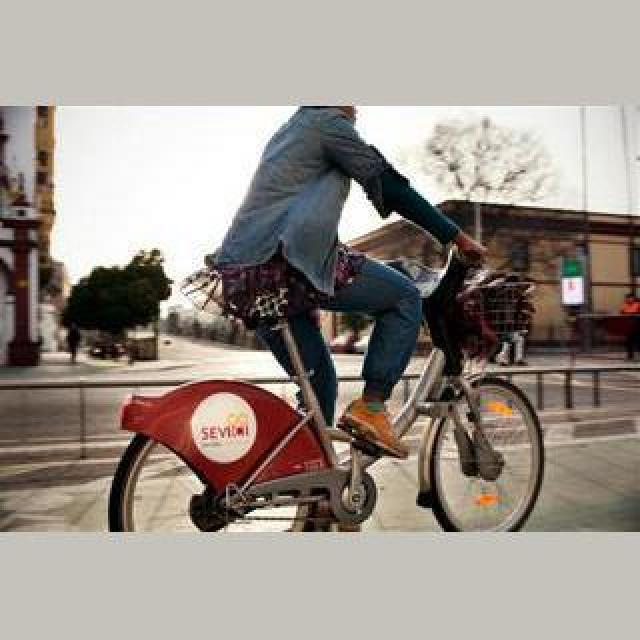MC-Bike: (182, 98, 498, 506)
Person: (118, 268, 554, 532)
